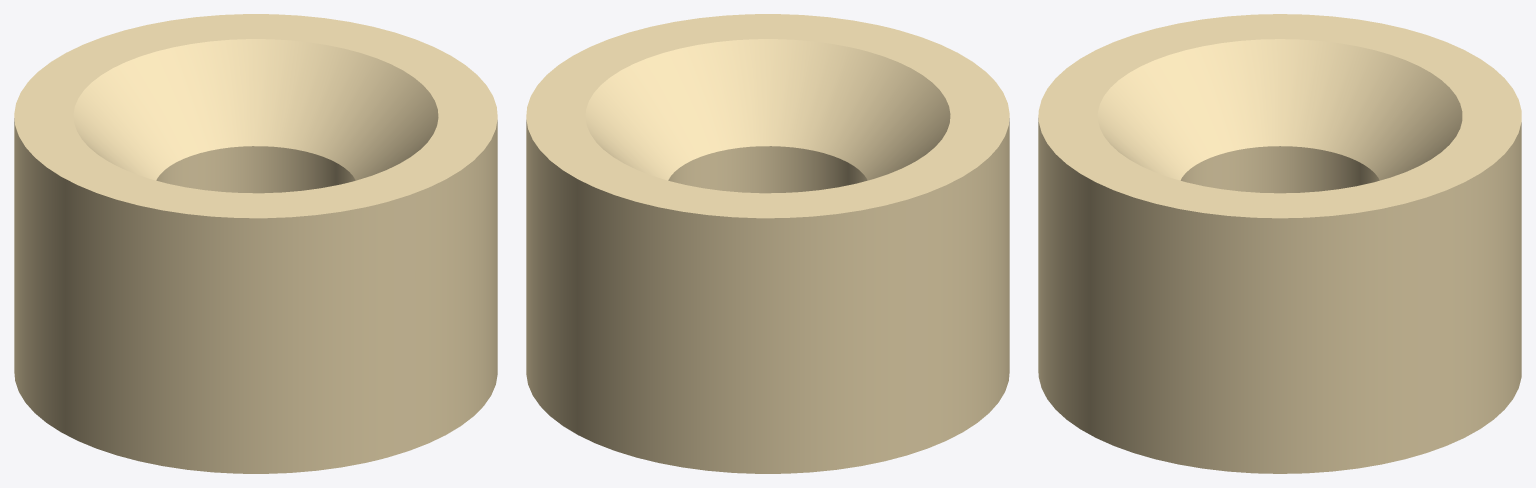
The model's file is Component2_1__Body1.gltf.
3 views of the same model, side by side, from view 1: azimuth 30°, elevation 25°; view 2: azimuth 150°, elevation 25°; view 3: azimuth 270°, elevation 25° (orthographic).
Parts seen in each view (by area): view 1: mesh379, mesh376, mesh377, mesh378; view 2: mesh379, mesh376, mesh377, mesh378; view 3: mesh379, mesh376, mesh377, mesh378.
Part boxes in pixels (x1,y1,x2,y2): mesh379: [14, 118, 497, 473]; mesh376: [73, 39, 438, 180]; mesh377: [14, 14, 497, 218]; mesh378: [156, 146, 355, 193]; mesh379: [526, 118, 1009, 473]; mesh376: [585, 39, 950, 180]; mesh377: [526, 14, 1009, 218]; mesh378: [668, 146, 867, 193]; mesh379: [1038, 118, 1521, 473]; mesh376: [1097, 39, 1462, 180]; mesh377: [1038, 14, 1521, 218]; mesh378: [1180, 146, 1379, 193].
Size of the model in its own units: 0.006 by 0.0035 by 0.006.
